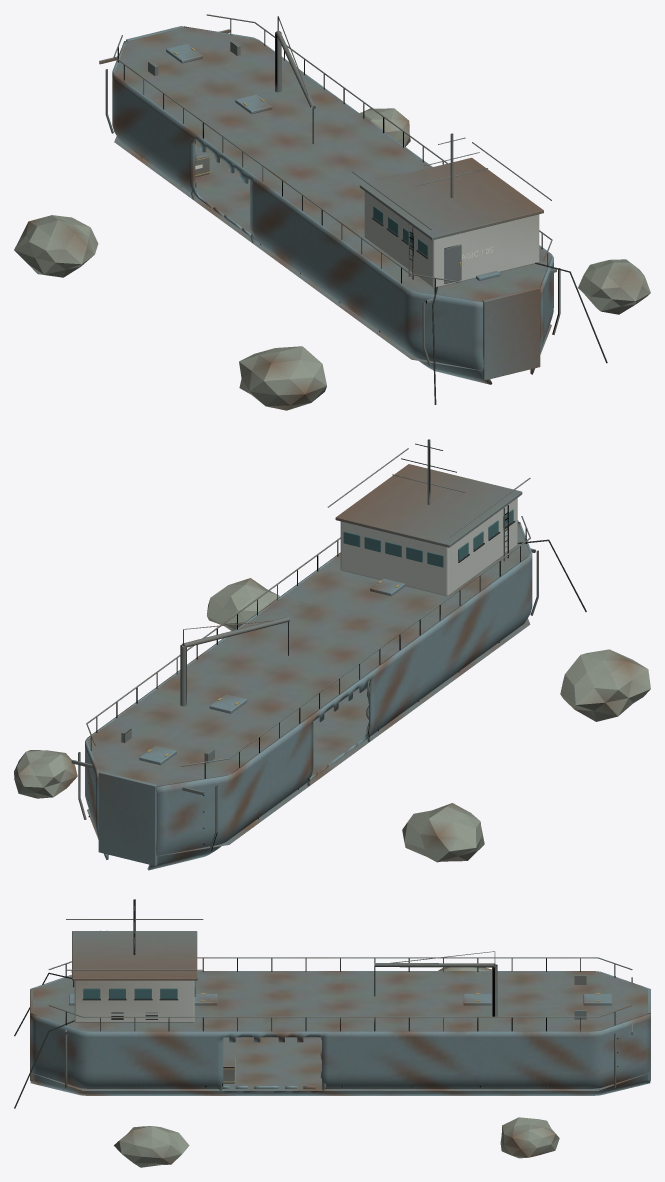
Rendered from wreckward_freighter.glb.
3 views of the same model, one above another, from view 1: azimuth 30°, elevation 25°; view 2: azimuth 150°, elevation 25°; view 3: azimuth 270°, elevation 25° (orthographic). The views are drawn at different scales.
Visible parts, largest first — view 1: Freighter finish Corroded structural steel, Freighter finish Oxidized hull coating, Freighter finish Encrusted seabed stones, Freighter finish Weathered bridge enamel, Freighter finish Sealed equipment rubber; view 2: Freighter finish Corroded structural steel, Freighter finish Oxidized hull coating, Freighter finish Encrusted seabed stones, Freighter finish Weathered bridge enamel, Freighter finish Clouded bridge glazing; view 3: Freighter finish Corroded structural steel, Freighter finish Oxidized hull coating, Freighter finish Weathered bridge enamel, Freighter finish Encrusted seabed stones, Freighter finish Clouded bridge glazing, Freighter finish Sealed equipment rubber.
Part boxes in pixels (bbox=[...]): Freighter finish Corroded structural steel: bbox=[99, 14, 560, 370]; Freighter finish Oxidized hull coating: bbox=[112, 26, 553, 384]; Freighter finish Encrusted seabed stones: bbox=[14, 108, 650, 410]; Freighter finish Weathered bridge enamel: bbox=[364, 191, 539, 288]; Freighter finish Sealed equipment rubber: bbox=[312, 107, 607, 404]; Freighter finish Corroded structural steel: bbox=[71, 439, 538, 856]; Freighter finish Oxidized hull coating: bbox=[85, 520, 532, 870]; Freighter finish Encrusted seabed stones: bbox=[14, 578, 650, 862]; Freighter finish Weathered bridge enamel: bbox=[340, 498, 517, 596]; Freighter finish Clouded bridge glazing: bbox=[343, 509, 513, 567]; Freighter finish Corroded structural steel: bbox=[32, 899, 648, 1090]; Freighter finish Oxidized hull coating: bbox=[30, 971, 650, 1095]; Freighter finish Weathered bridge enamel: bbox=[74, 980, 194, 1022]; Freighter finish Encrusted seabed stones: bbox=[114, 967, 559, 1167]; Freighter finish Clouded bridge glazing: bbox=[83, 980, 195, 998]; Freighter finish Sealed equipment rubber: bbox=[14, 967, 375, 1108].
Size of what is drawn, in the model's own units: 25.89 by 12.74 by 37.14.
9 materials, 4 textured.
